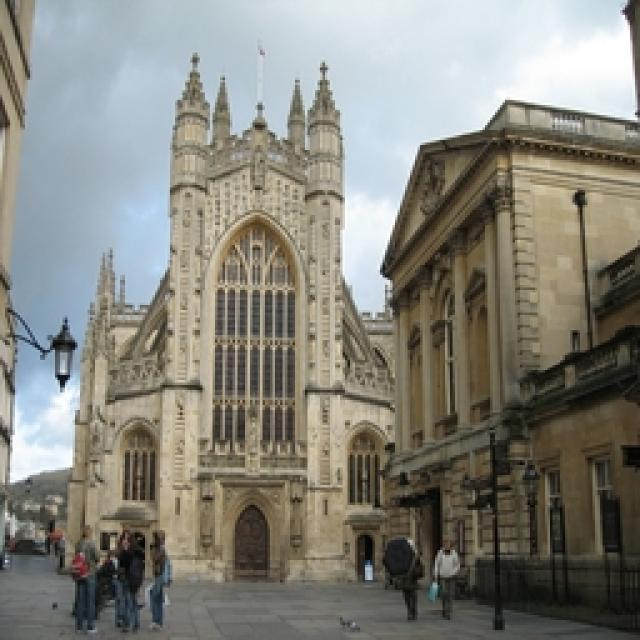Abbey: (64, 41, 399, 586)
